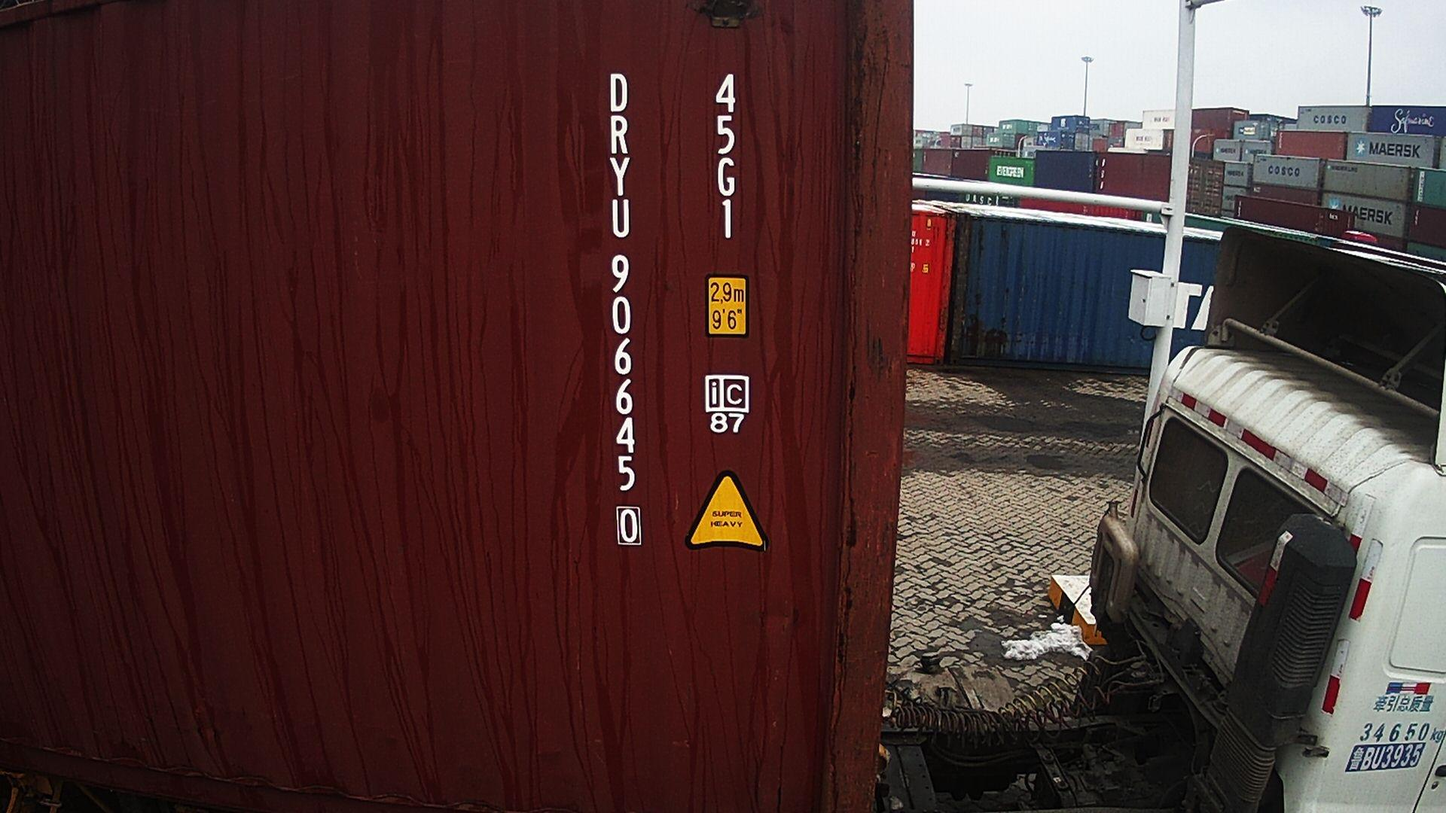container-numbers: (599, 66, 648, 553), (709, 68, 744, 244)
